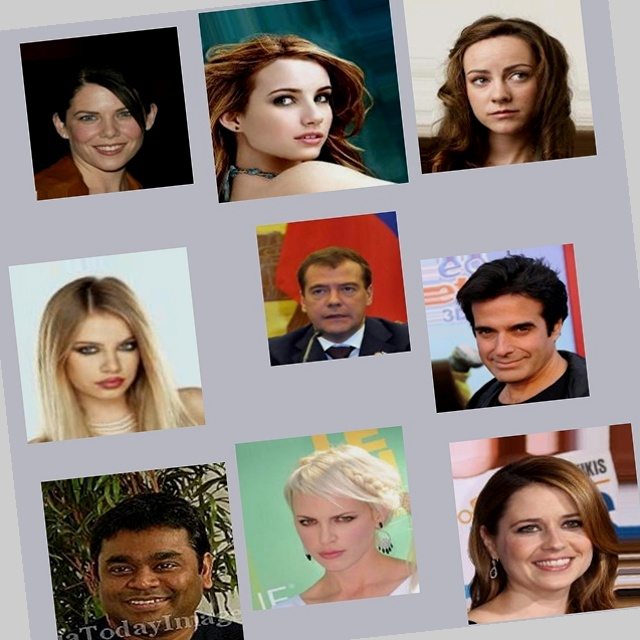celeb_10002: (8, 201, 205, 398)
celeb_2336: (414, 284, 584, 453)
celeb_2619: (263, 215, 418, 370)
celeb_2970: (247, 0, 457, 205)
celeb_4422: (451, 25, 640, 219)
celeb_4428: (400, 468, 602, 640)
celeb_5695: (69, 0, 243, 160)
celeb_7: (0, 419, 197, 623)
celeb_797: (193, 423, 378, 608)
